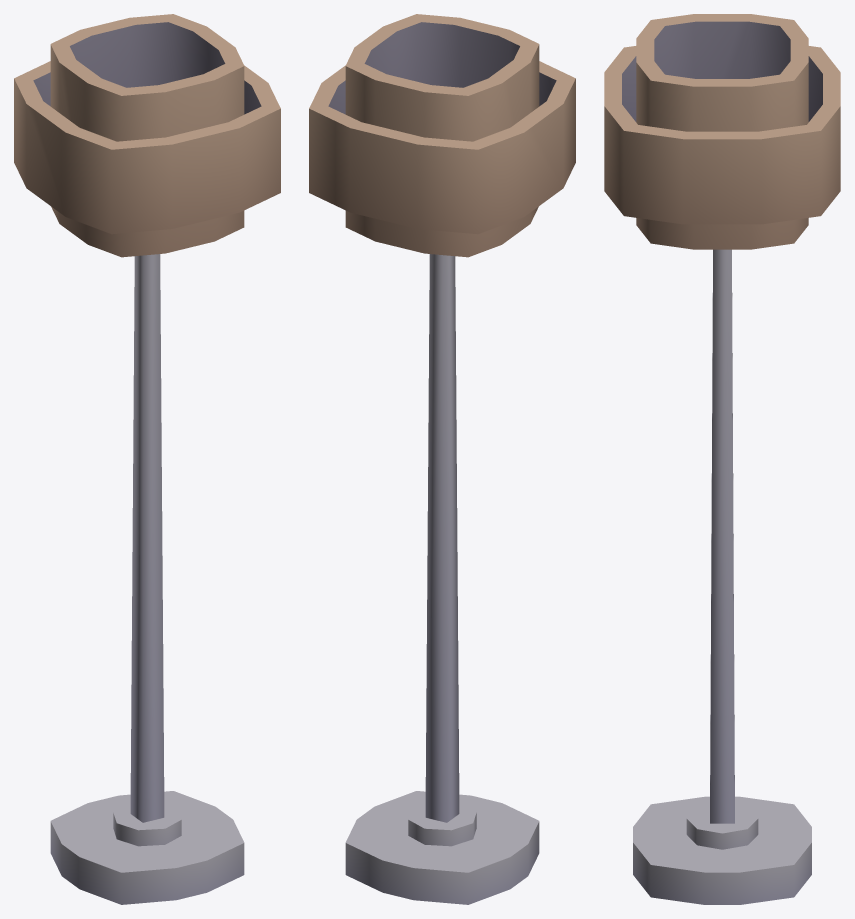
File: lamp-straight-rings-standing.glb
The picture shows the model from 3 angles, left to right: view 1: azimuth 30°, elevation 25°; view 2: azimuth 150°, elevation 25°; view 3: azimuth 270°, elevation 25°; orthographic projection.
Parts seen in each view (by area): view 1: lamp-straight-rings-standing; view 2: lamp-straight-rings-standing; view 3: lamp-straight-rings-standing.
Boxes of the visible parts, bbox=[...] form: lamp-straight-rings-standing: bbox=[14, 14, 280, 904]; lamp-straight-rings-standing: bbox=[309, 14, 575, 904]; lamp-straight-rings-standing: bbox=[604, 14, 840, 904].
Bounding box in the file's own units: 0.33 × 1.26 × 0.33.
